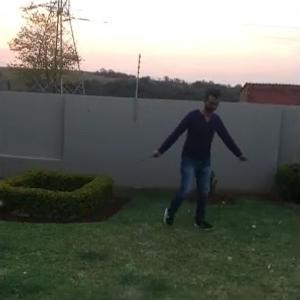land: (148, 82, 249, 230)
